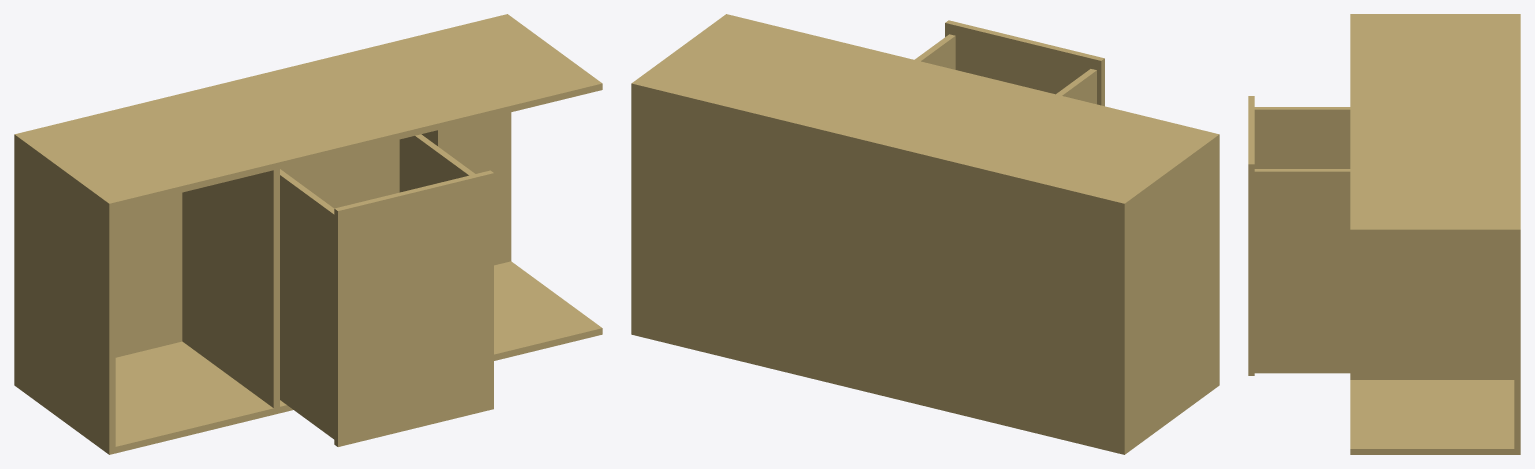
The model's file is meuble_6913100aeb5d7.glb.
3 renders of one model, left to right at view 1: azimuth 30°, elevation 25°; view 2: azimuth 150°, elevation 25°; view 3: azimuth 270°, elevation 25°, orthographic. The views are drawn at different scales.
Parts seen in each view (by area): view 1: world; view 2: world; view 3: world.
Boxes of the visible parts, left/top/right/bottom form: world: left=14, top=14, right=602, bottom=454; world: left=631, top=14, right=1219, bottom=454; world: left=1248, top=14, right=1520, bottom=454.
Bounding box in the file's own units: 1.5 × 0.73 × 0.8.
